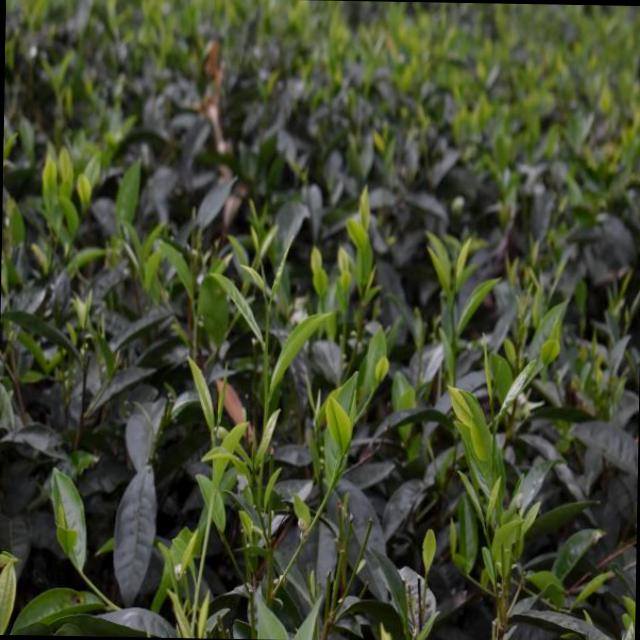Stem: (210, 490, 216, 498), (266, 304, 271, 313), (493, 426, 496, 433), (450, 293, 453, 299)
